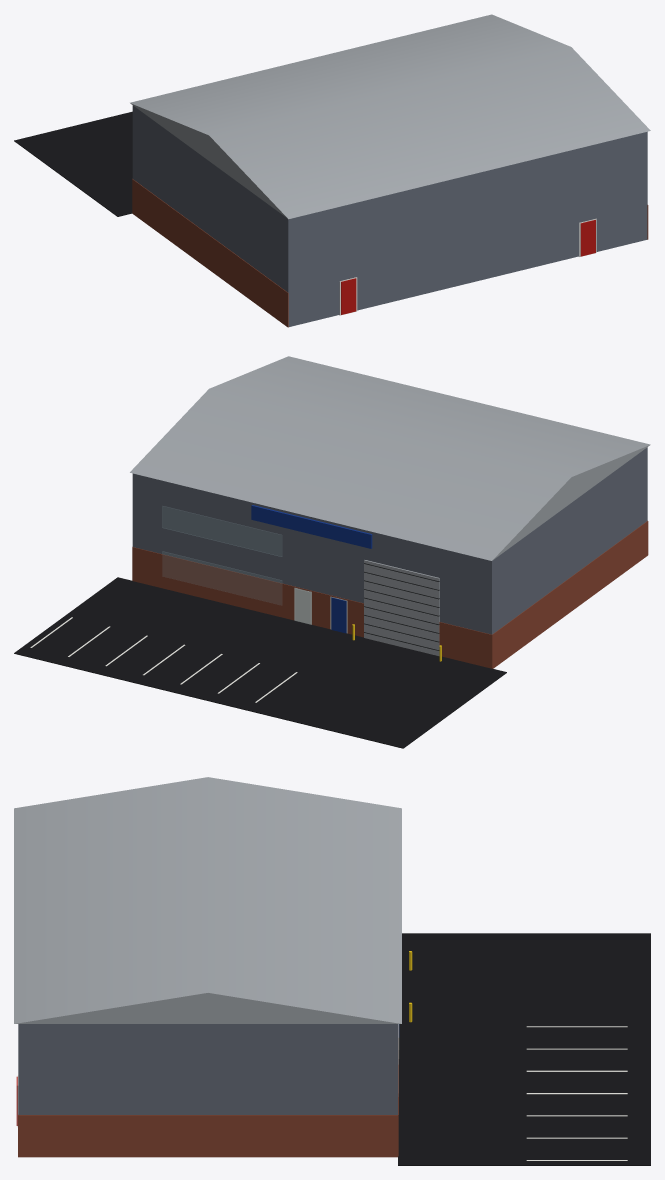
The model's file is context.type.industrial_unit.glb.
3 views of the same model, one above another, from view 1: azimuth 30°, elevation 25°; view 2: azimuth 150°, elevation 25°; view 3: azimuth 270°, elevation 25° (orthographic). The views are drawn at different scales.
Parts seen in each view (by area): view 1: roof__steel_galvanised, walls__steel_painted, ground__asphalt, openings__brick, openings__hazard_red; view 2: roof__steel_galvanised, ground__asphalt, walls__steel_painted, openings__brick, openings__glass, openings__steel_galvanised, openings__plastic_blue, openings__steel_dark, openings__paint_white, ground__paint_white; view 3: roof__steel_galvanised, ground__asphalt, walls__steel_painted, openings__brick, ground__paint_white.
Part boxes in pixels (box(x1,y1,x2,y2)): roof__steel_galvanised: box(130, 14, 650, 219); walls__steel_painted: box(132, 105, 647, 326); ground__asphalt: box(14, 111, 132, 216); openings__brick: box(132, 179, 648, 327); openings__hazard_red: box(341, 220, 595, 314); roof__steel_galvanised: box(130, 356, 650, 560); ground__asphalt: box(14, 577, 506, 748); walls__steel_painted: box(132, 447, 647, 634); openings__brick: box(132, 521, 648, 668); openings__glass: box(162, 506, 310, 623); openings__steel_galvanised: box(364, 560, 439, 655); openings__plastic_blue: box(251, 505, 372, 633); openings__steel_dark: box(364, 563, 439, 650); openings__paint_white: box(294, 587, 347, 633); ground__paint_white: box(30, 617, 297, 702); roof__steel_galvanised: box(14, 777, 401, 1023); ground__asphalt: box(398, 933, 650, 1165); walls__steel_painted: box(18, 1024, 397, 1114); openings__brick: box(18, 1024, 398, 1157); ground__paint_white: box(526, 1026, 627, 1160).
Bounding box in the file's own units: 26 × 8.68 × 30.2.
